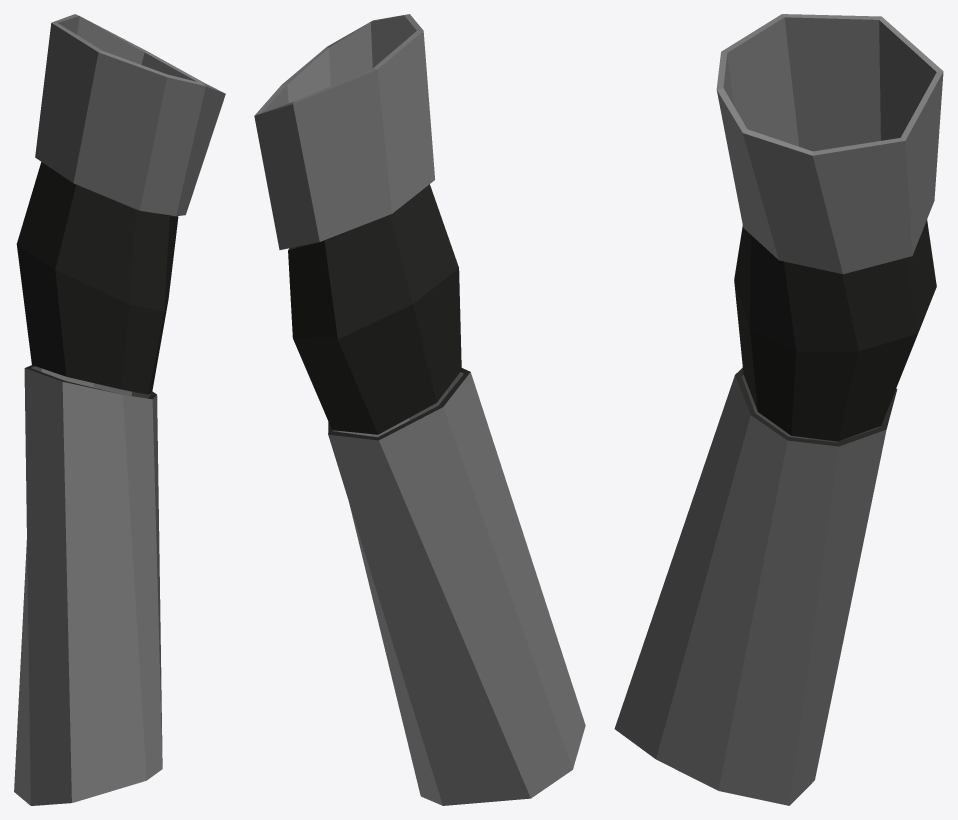
Rendered from VambraceRight_01.fbx.
3 renders of one model, left to right at view 1: azimuth 30°, elevation 25°; view 2: azimuth 150°, elevation 25°; view 3: azimuth 270°, elevation 25°, orthographic. The views are drawn at different scales.
Visible parts, largest first — view 1: VambraceRight_01; view 2: VambraceRight_01; view 3: VambraceRight_01.
Boxes of the visible parts, x1=… form: VambraceRight_01: x1=14, y1=14, x2=225, y2=805; VambraceRight_01: x1=254, y1=14, x2=585, y2=805; VambraceRight_01: x1=614, y1=14, x2=943, y2=805.
Size of the model in its own units: 12.13 by 37.2 by 14.
